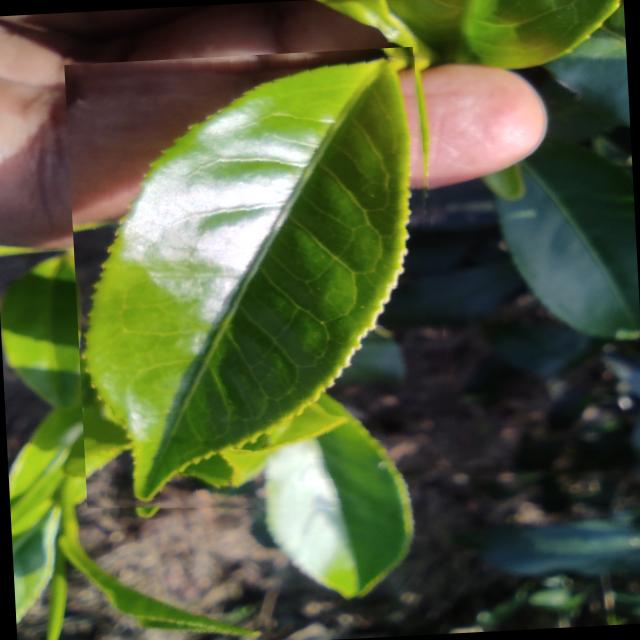Category B 2-4 days: (63, 45, 460, 528)
